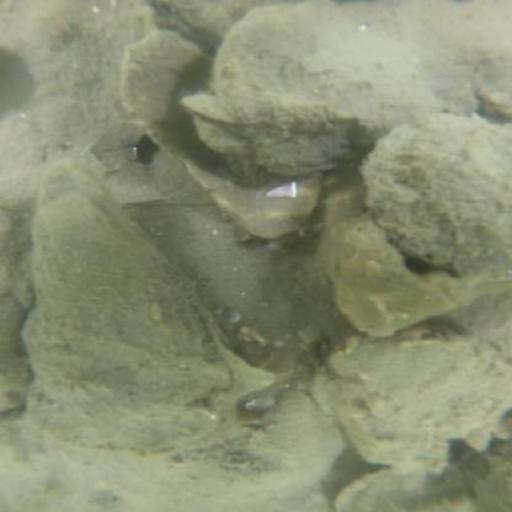Oyster-Closed: (208, 4, 507, 142), (342, 297, 509, 470), (364, 114, 509, 292), (330, 222, 457, 331), (217, 390, 337, 490), (197, 111, 353, 178)
Oyster-Open: (30, 190, 219, 451)
